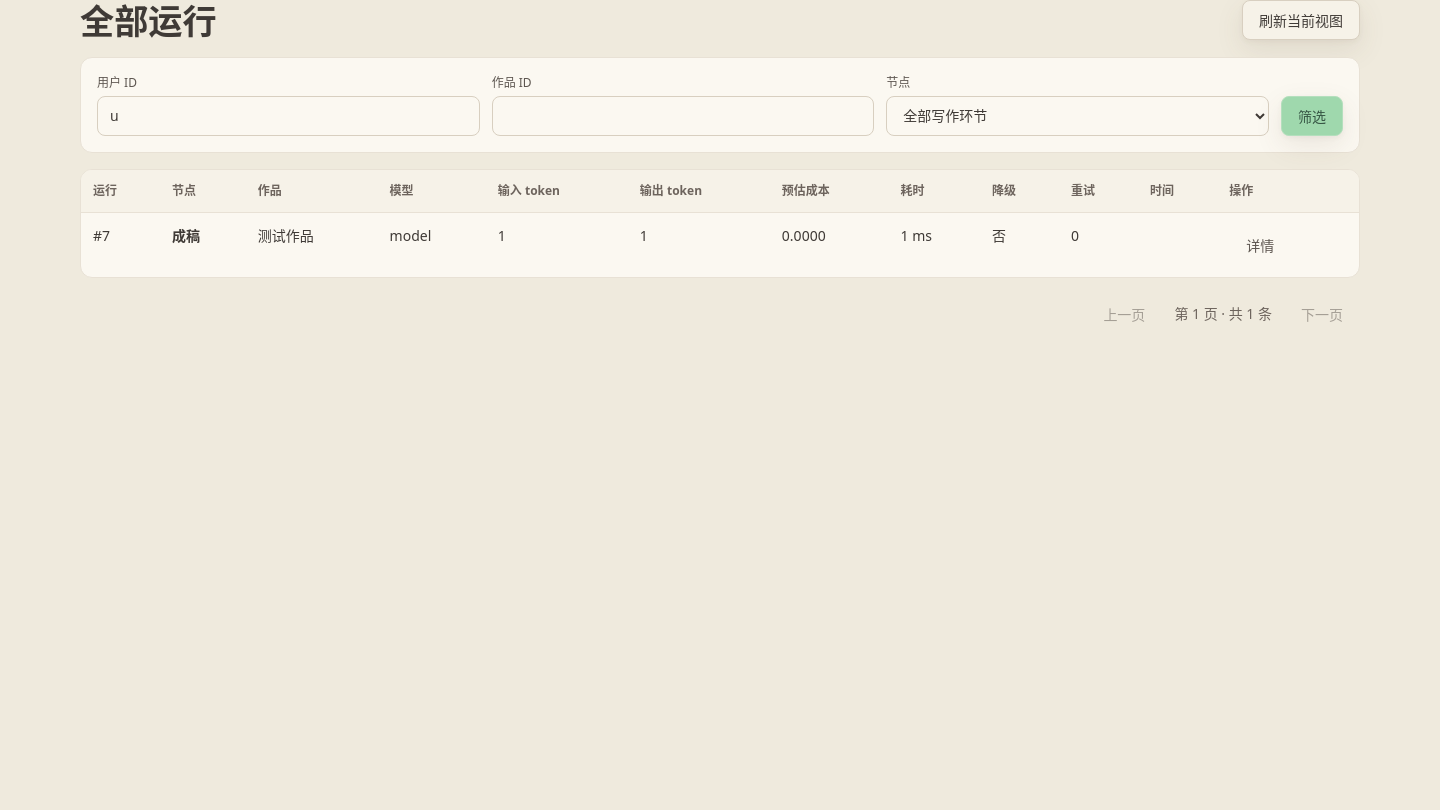
keeps filtered runs visible while a selected run opens and closes in a dialog
Click the button with aria-label "查看节点 short_write #7": (1260, 245) [1229,225,1291,265]
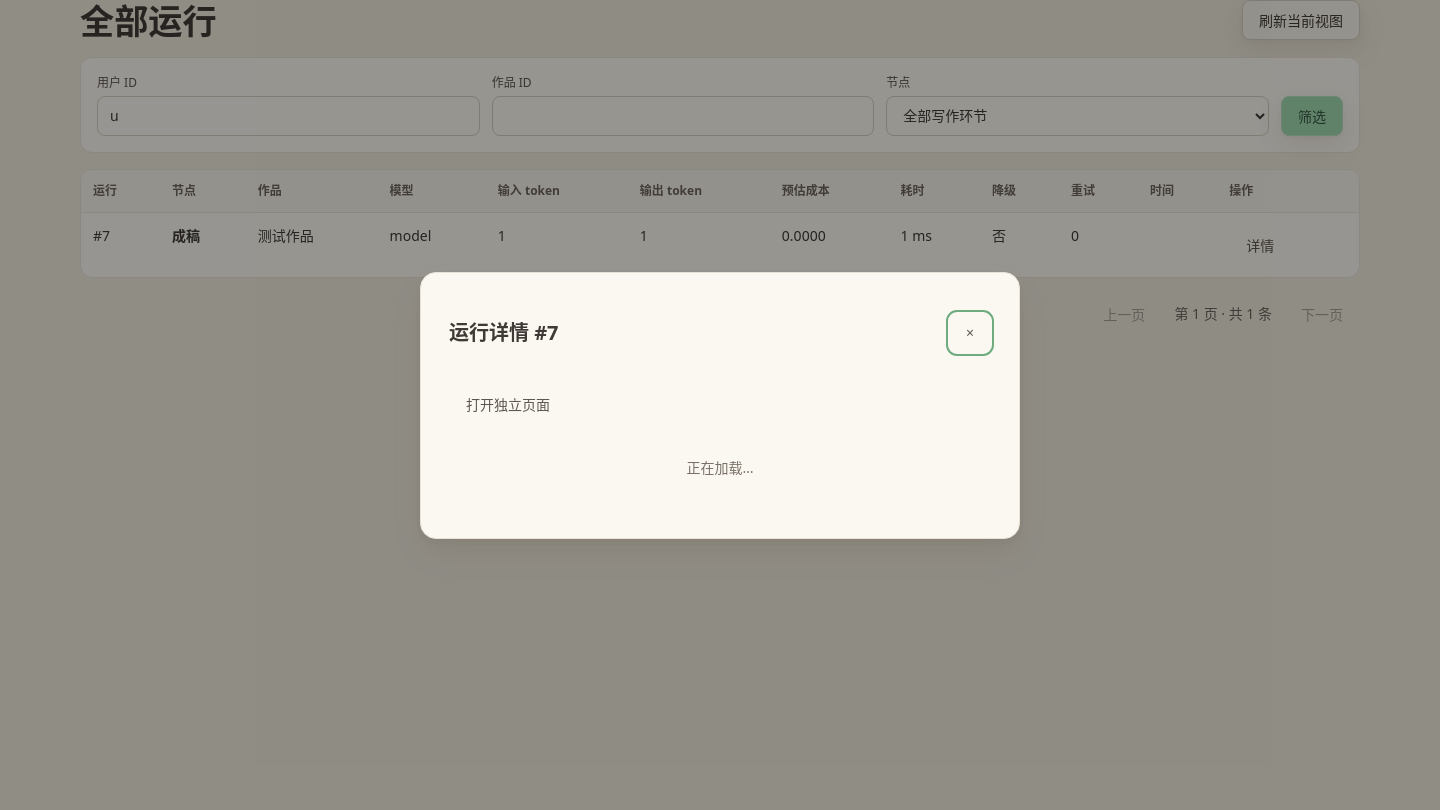
expect the dialog "运行详情 #7" is shown: met, box [420,272,1020,538]
Click the button named "关闭": (970, 332) [949,312,991,352]
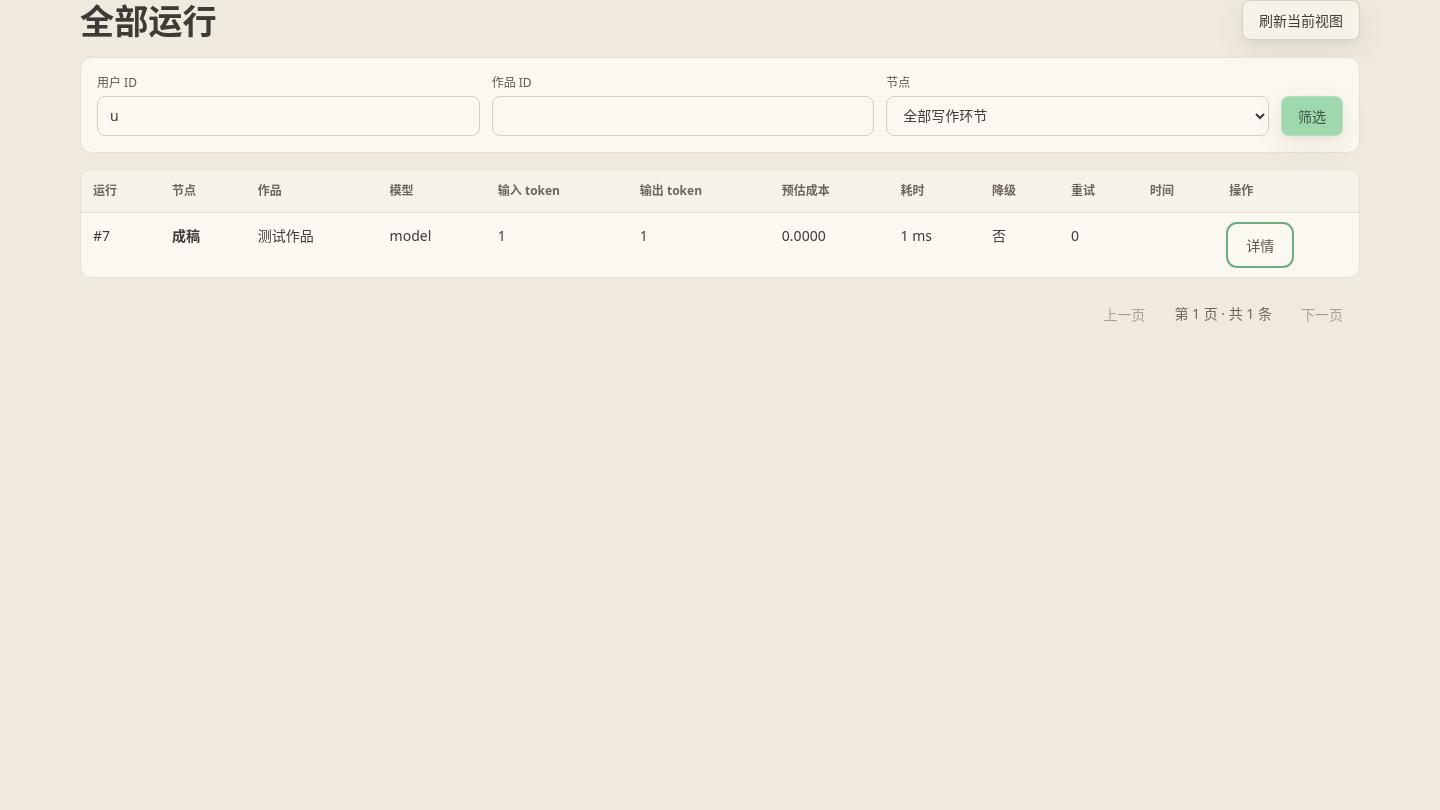
expect the dialog is gone: met
